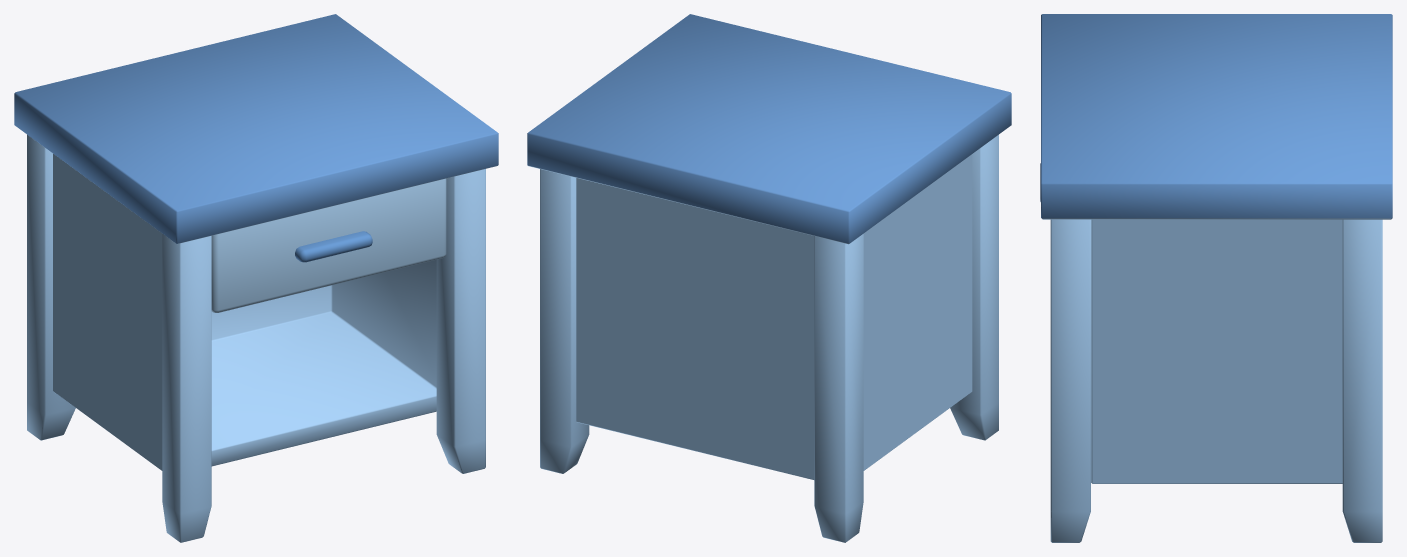
The model's file is Side table Boy .fbx.
3 renders of one model, left to right at view 1: azimuth 30°, elevation 25°; view 2: azimuth 150°, elevation 25°; view 3: azimuth 270°, elevation 25°, orthographic. The views are drawn at different scales.
Parts seen in each view (by area): view 1: wooden_end_table_wooden_end_table_mat_0.001, wooden_end_table_wooden_end_table_mat_0.003; view 2: wooden_end_table_wooden_end_table_mat_0.001; view 3: wooden_end_table_wooden_end_table_mat_0.001.
Boxes of the visible parts, box(x1,y1,x2,y2) form: wooden_end_table_wooden_end_table_mat_0.001: box(14, 14, 498, 542); wooden_end_table_wooden_end_table_mat_0.003: box(211, 178, 446, 312); wooden_end_table_wooden_end_table_mat_0.001: box(527, 14, 1011, 542); wooden_end_table_wooden_end_table_mat_0.001: box(1041, 14, 1392, 542).
Size of the model in its own units: 80 by 80 by 70.13.
Materials: 1 (1 with a texture image).
